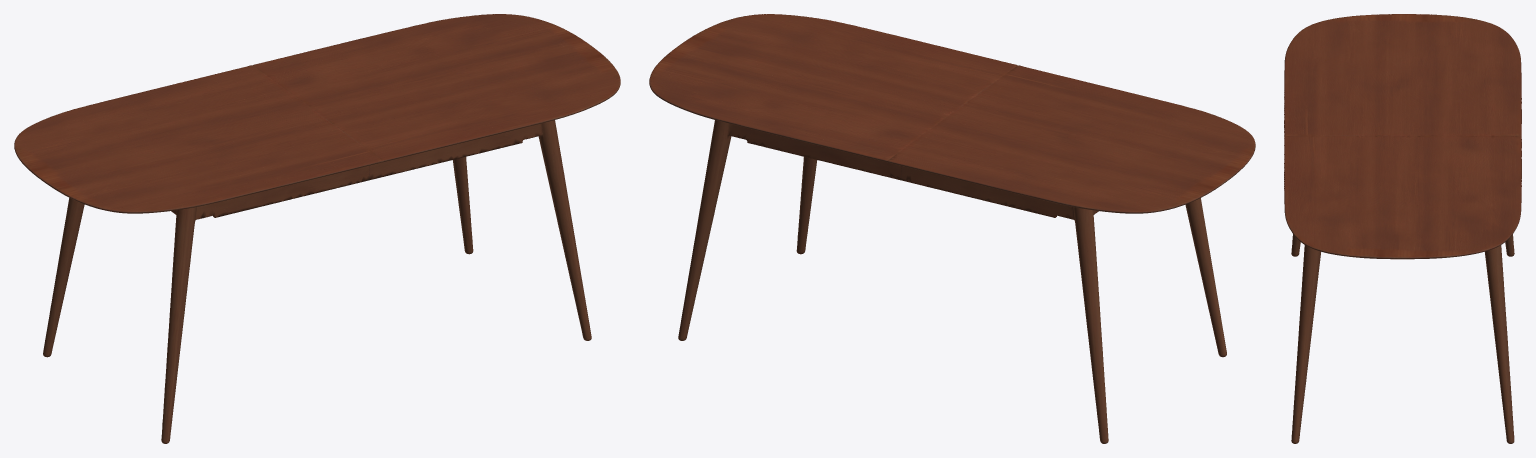
3 views of the same model, side by side, from view 1: azimuth 30°, elevation 25°; view 2: azimuth 150°, elevation 25°; view 3: azimuth 270°, elevation 25° (orthographic). The views are drawn at different scales.
Visible parts, largest first — view 1: Mesh_0.001; view 2: Mesh_0.001; view 3: Mesh_0.001.
Boxes of the visible parts, x1,y1,x2,y2 form: Mesh_0.001: (14, 14, 620, 443); Mesh_0.001: (649, 14, 1255, 443); Mesh_0.001: (1284, 14, 1521, 443).
Size of the model in its own units: 1.83 by 0.75 by 0.7554.
Materials: 1 (1 with a texture image).
